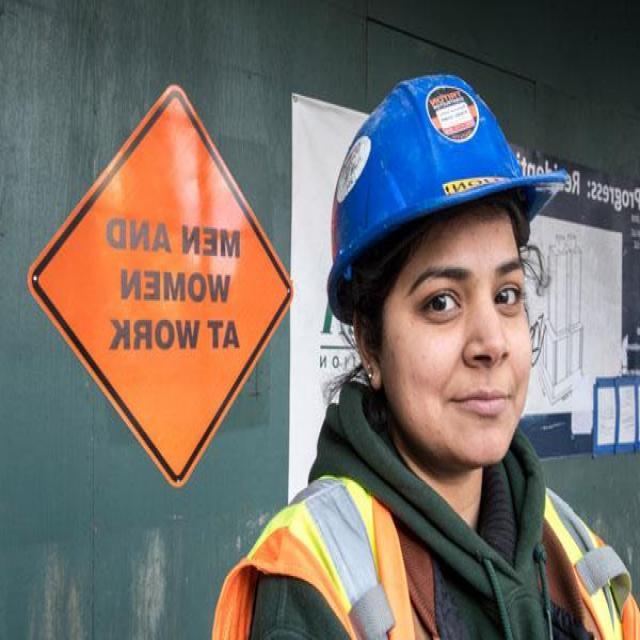Reflective-Jacket: (215, 451, 640, 640)
Safety-Helmet: (321, 67, 562, 307)
